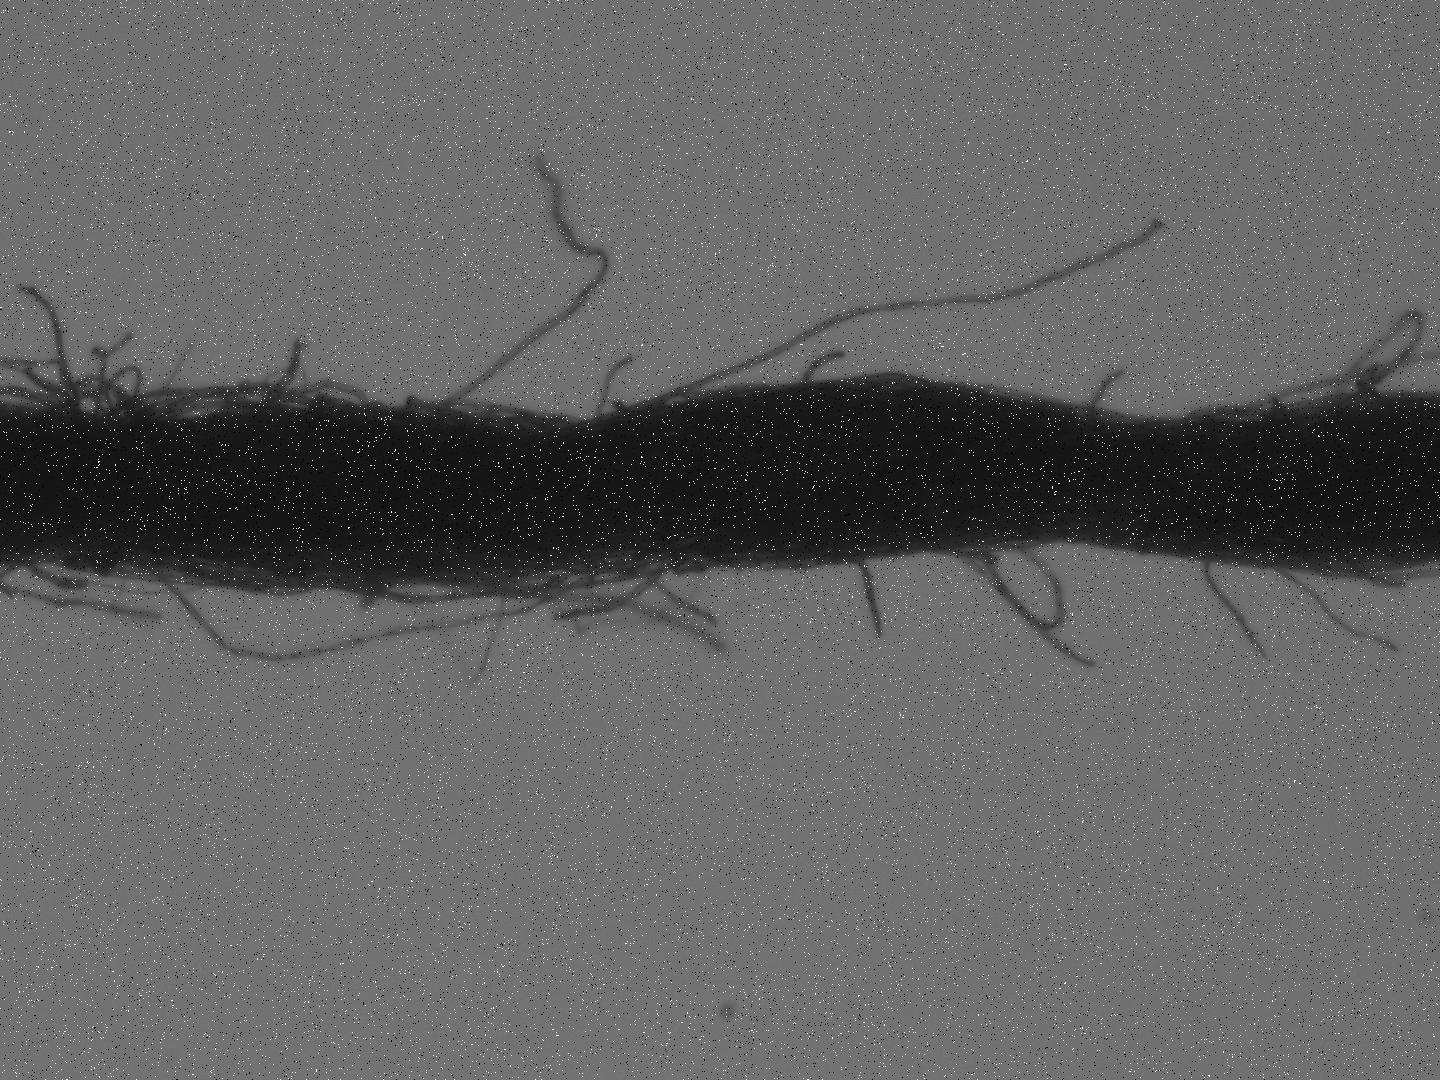loop_fiber: (450, 546, 710, 601), (960, 533, 1068, 631), (1332, 307, 1430, 411), (167, 554, 322, 600), (41, 361, 154, 423), (159, 378, 316, 421), (399, 395, 571, 425), (49, 554, 145, 585)
protruding_fiber: (628, 216, 1171, 406), (841, 549, 891, 647)
